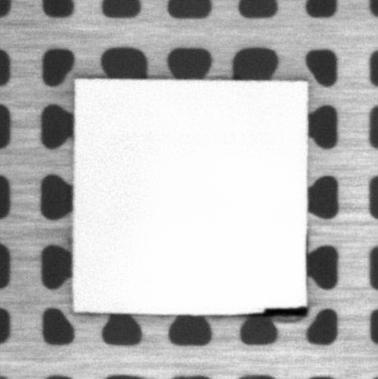DIE_BROKEN: (250, 305, 309, 318)
